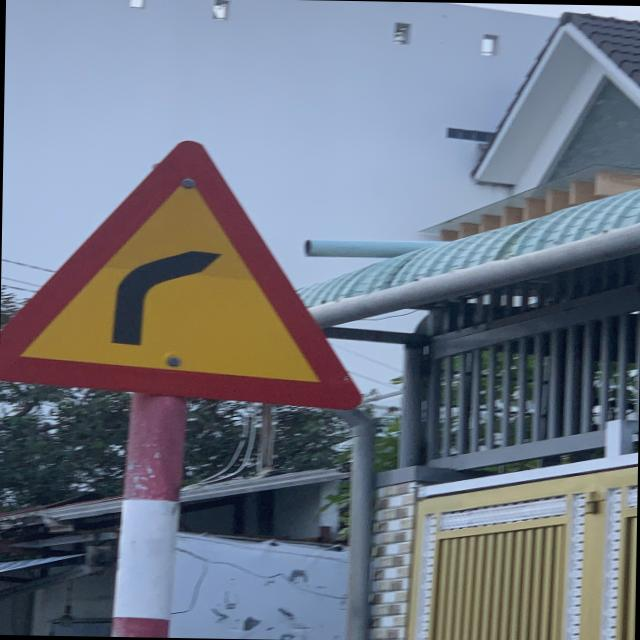Duong_Nguoi_Di_Bo_Cat_Ngang: (0, 139, 365, 410)
